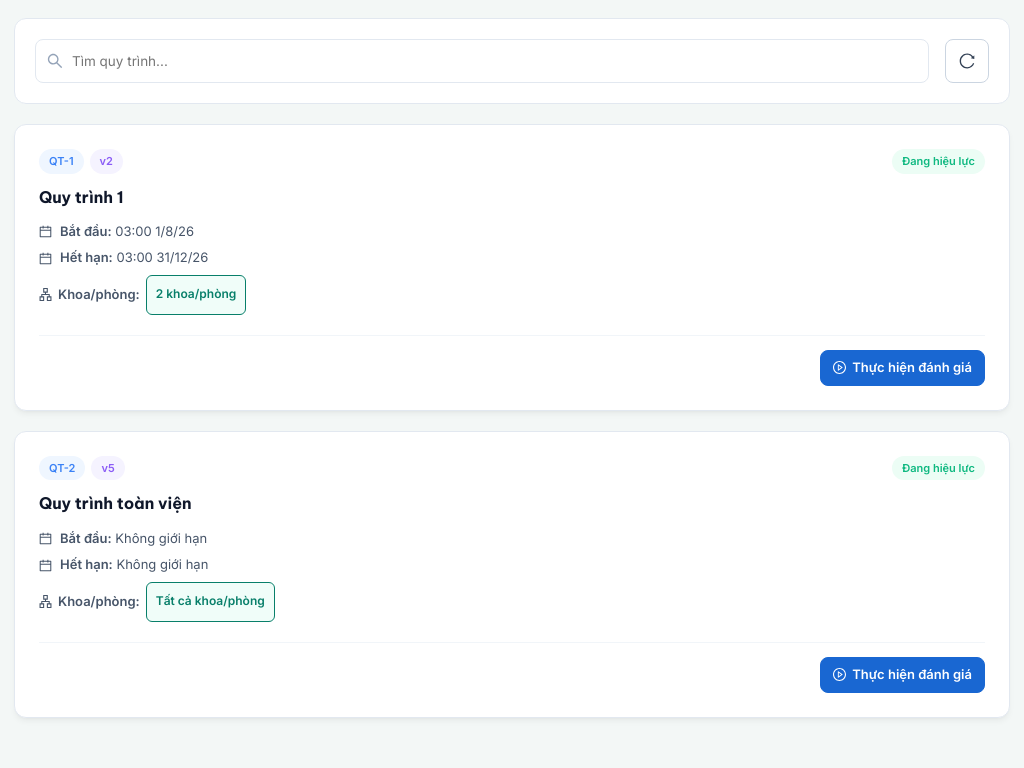
Test: ManagerChecklistListPage - phạm vi khoa/phòng › mở hộp thoại liệt kê khoa được phân quyền
Expected: the heading "Quy trình 1" is shown, left=39, top=186, right=124, bottom=206
Click the button "2 khoa/phòng": (196, 295) left=146, top=275, right=246, bottom=315
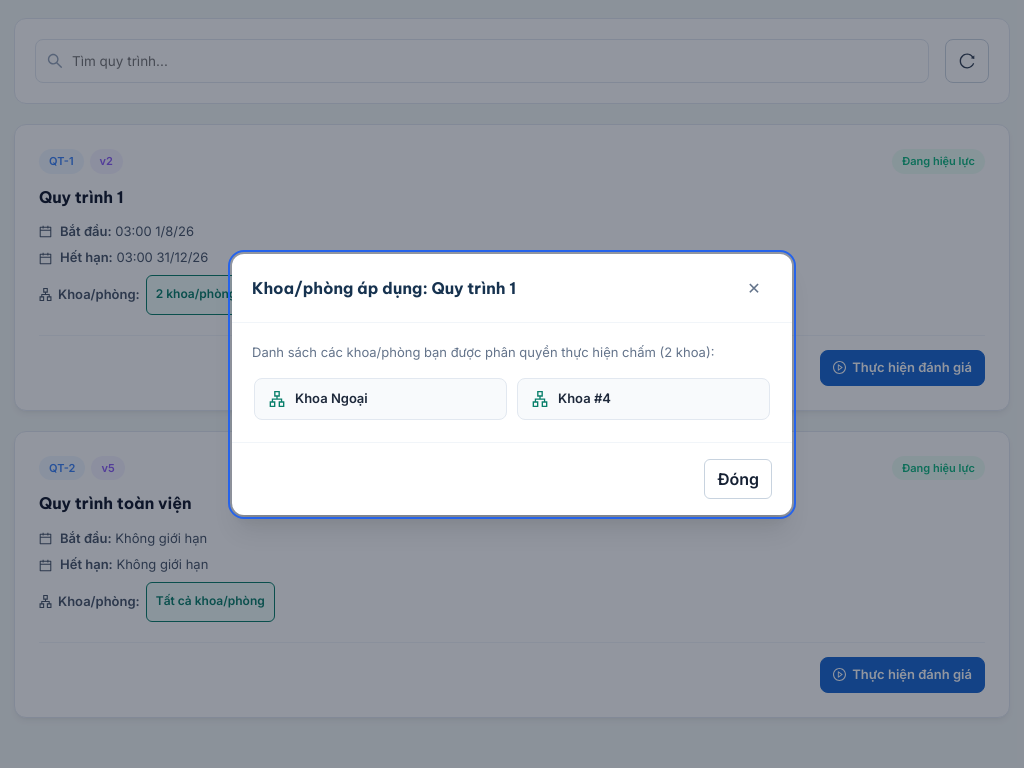
Now the text "2 khoa" is shown, box left=252, top=342, right=772, bottom=362
Now the text "Khoa Ngoại" is shown, box left=295, top=389, right=368, bottom=408
Now the text "Khoa #4" is shown, box left=558, top=389, right=611, bottom=408
